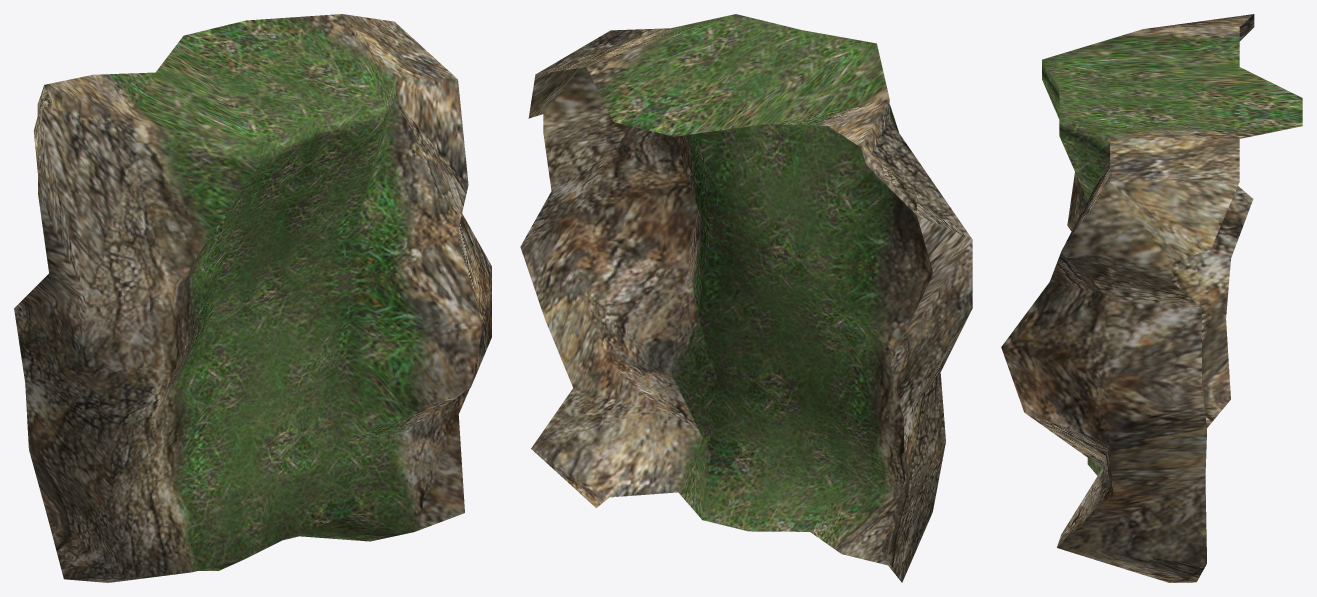
File: water fall base.fbx
The picture shows the model from 3 angles, left to right: view 1: azimuth 30°, elevation 25°; view 2: azimuth 150°, elevation 25°; view 3: azimuth 270°, elevation 25°; orthographic projection. The views are drawn at different scales.
Parts seen in each view (by area): view 1: pPlane1; view 2: pPlane1; view 3: pPlane1.
Part boxes in pixels (left/top/right/bottom): pPlane1: left=14, top=14, right=491, bottom=582; pPlane1: left=520, top=14, right=972, bottom=582; pPlane1: left=1001, top=14, right=1302, bottom=582.
Bounding box in the file's own units: 11.22 × 12.24 × 7.65.
1 material, 1 textured.
